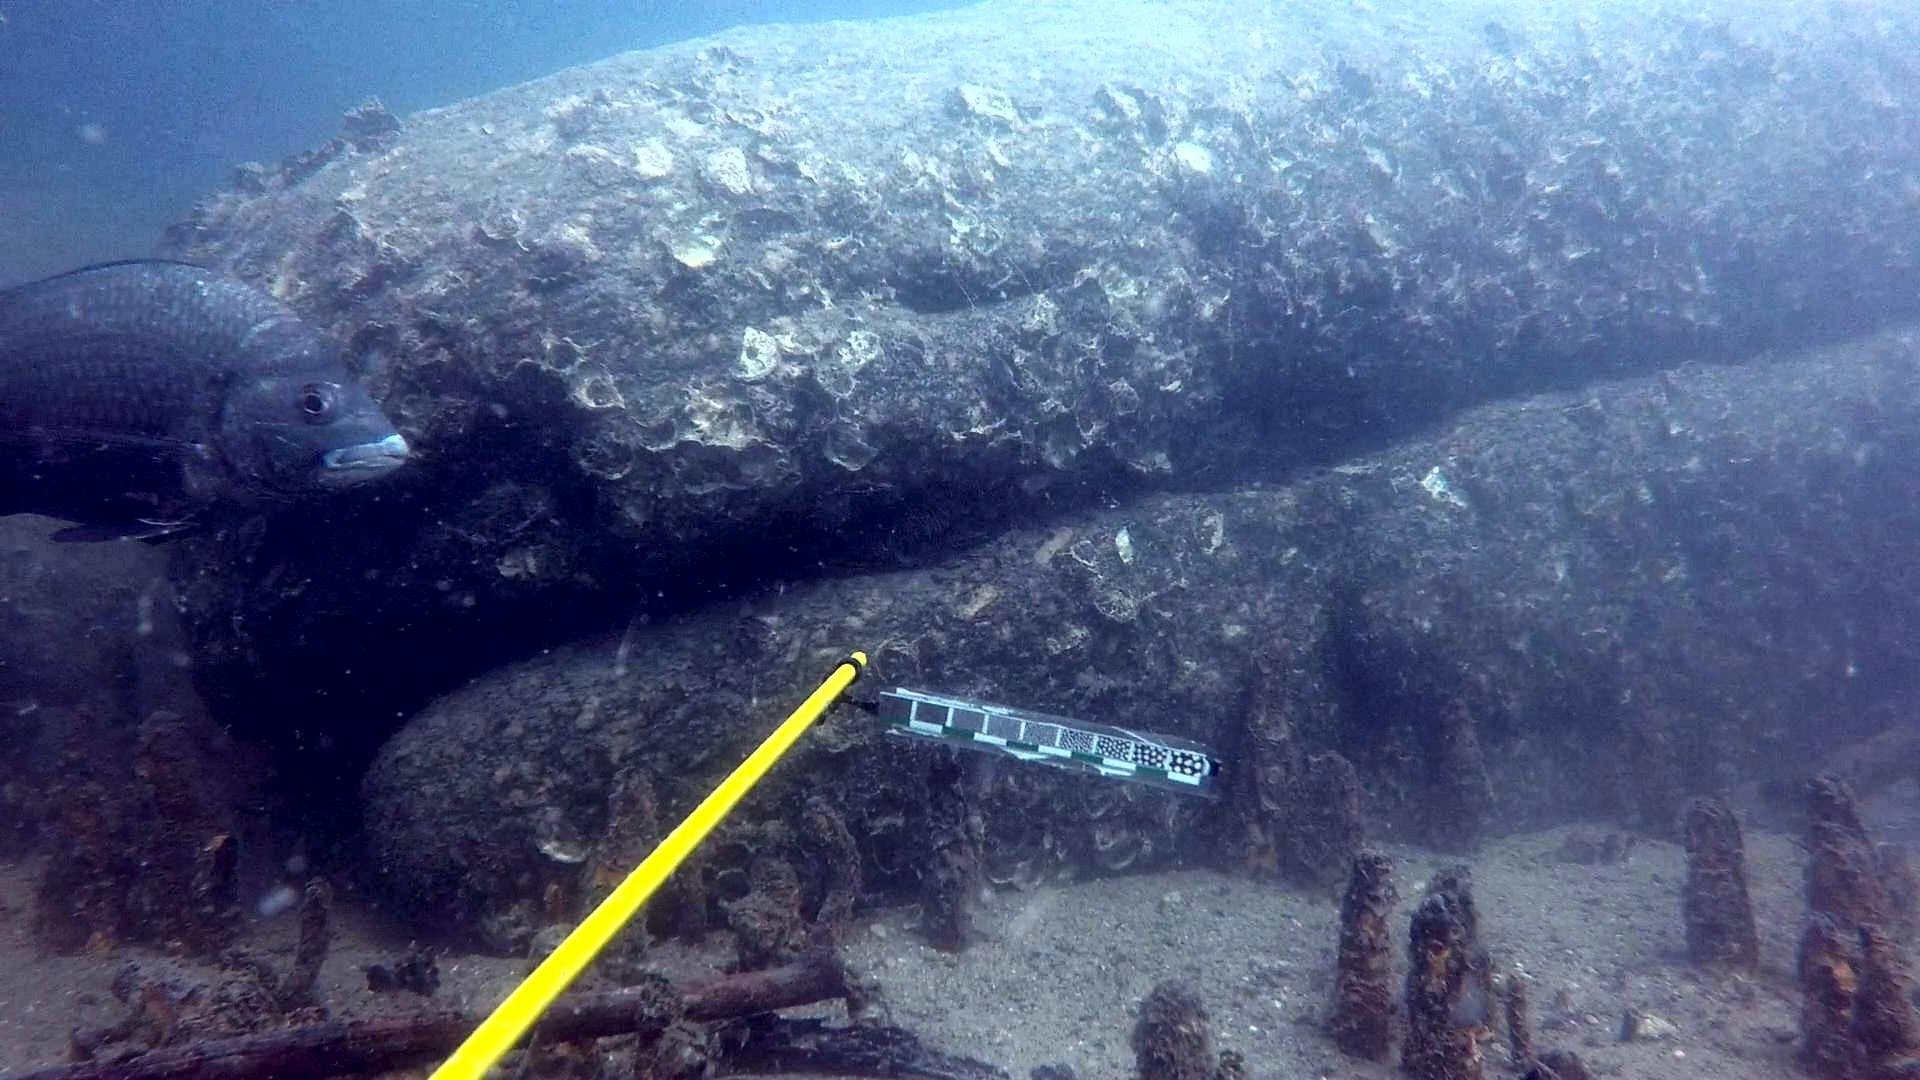acanthopagrus palmaris: (0, 243, 414, 564)
